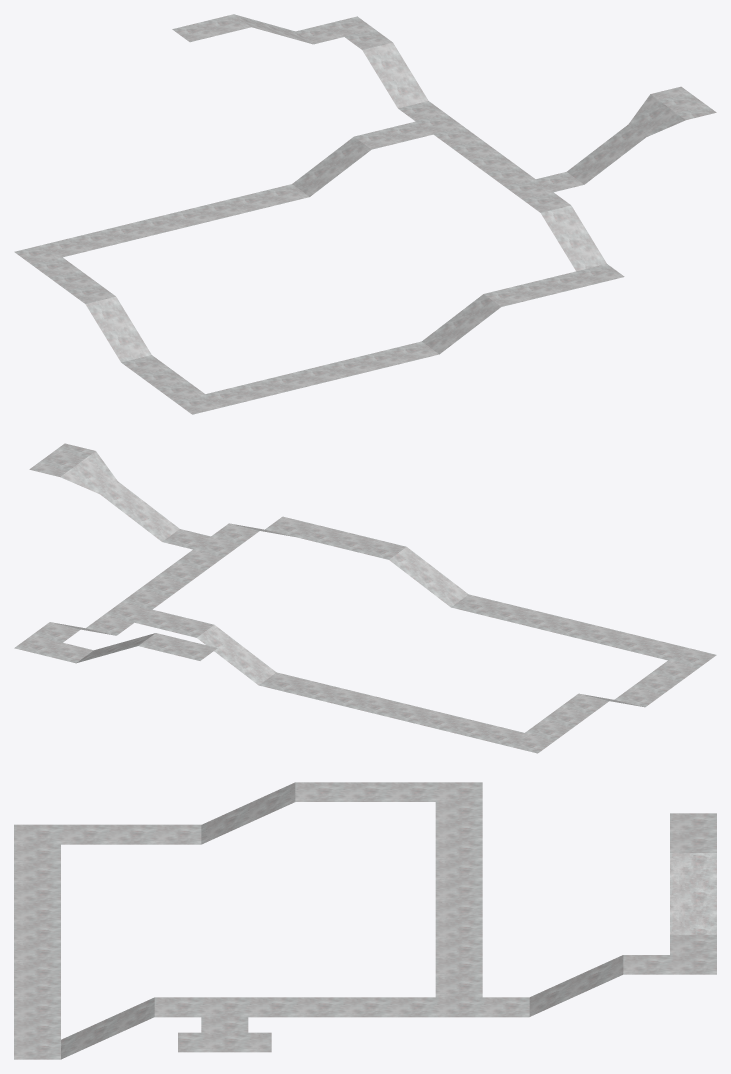
Rendered from VentFloor.obj.
The picture shows the model from 3 angles, top to bottom: view 1: azimuth 30°, elevation 25°; view 2: azimuth 150°, elevation 25°; view 3: azimuth 270°, elevation 25°; orthographic projection. The views are drawn at different scales.
Parts seen in each view (by area): view 1: VentFloor; view 2: VentFloor; view 3: VentFloor.
Boxes of the visible parts, x1,y1,x2,y2 form: VentFloor: (14, 14, 716, 414); VentFloor: (14, 443, 716, 753); VentFloor: (14, 782, 716, 1059).
Size of the model in its own units: 19 by 4 by 15.
